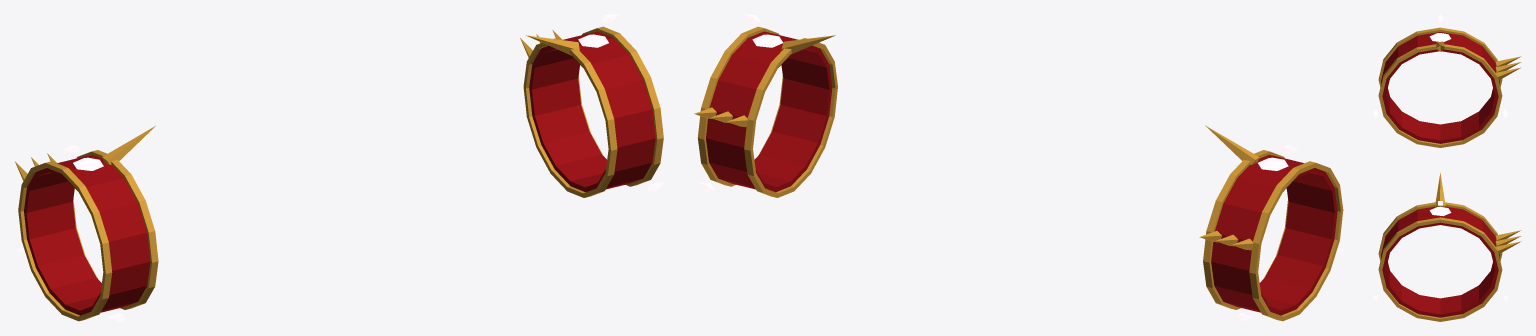
File: armor_guard_arms_mythic_orc.glb
The picture shows the model from 3 angles, left to right: view 1: azimuth 30°, elevation 25°; view 2: azimuth 150°, elevation 25°; view 3: azimuth 270°, elevation 25°; orthographic projection. The views are drawn at different scales.
Parts seen in each view (by area): view 1: armor_guard_arms_mythic_orc__lowerarm_r, armor_guard_arms_mythic_orc__lowerarm_l; view 2: armor_guard_arms_mythic_orc__lowerarm_r, armor_guard_arms_mythic_orc__lowerarm_l; view 3: armor_guard_arms_mythic_orc__lowerarm_l, armor_guard_arms_mythic_orc__lowerarm_r.
Boxes of the visible parts, bbox=[...] form: armor_guard_arms_mythic_orc__lowerarm_r: bbox=[15, 126, 158, 321]; armor_guard_arms_mythic_orc__lowerarm_l: bbox=[520, 14, 664, 197]; armor_guard_arms_mythic_orc__lowerarm_r: bbox=[1199, 125, 1344, 321]; armor_guard_arms_mythic_orc__lowerarm_l: bbox=[694, 14, 837, 197]; armor_guard_arms_mythic_orc__lowerarm_l: bbox=[1373, 172, 1521, 321]; armor_guard_arms_mythic_orc__lowerarm_r: bbox=[1373, 14, 1521, 147].
Bounding box in the file's own units: 120 × 34.18 × 39.27.
